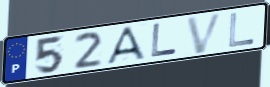2: (73, 30, 104, 70)
5: (33, 33, 66, 75)
A: (104, 25, 148, 66)
L: (150, 22, 179, 58), (227, 12, 255, 49)
V: (185, 10, 226, 55)
